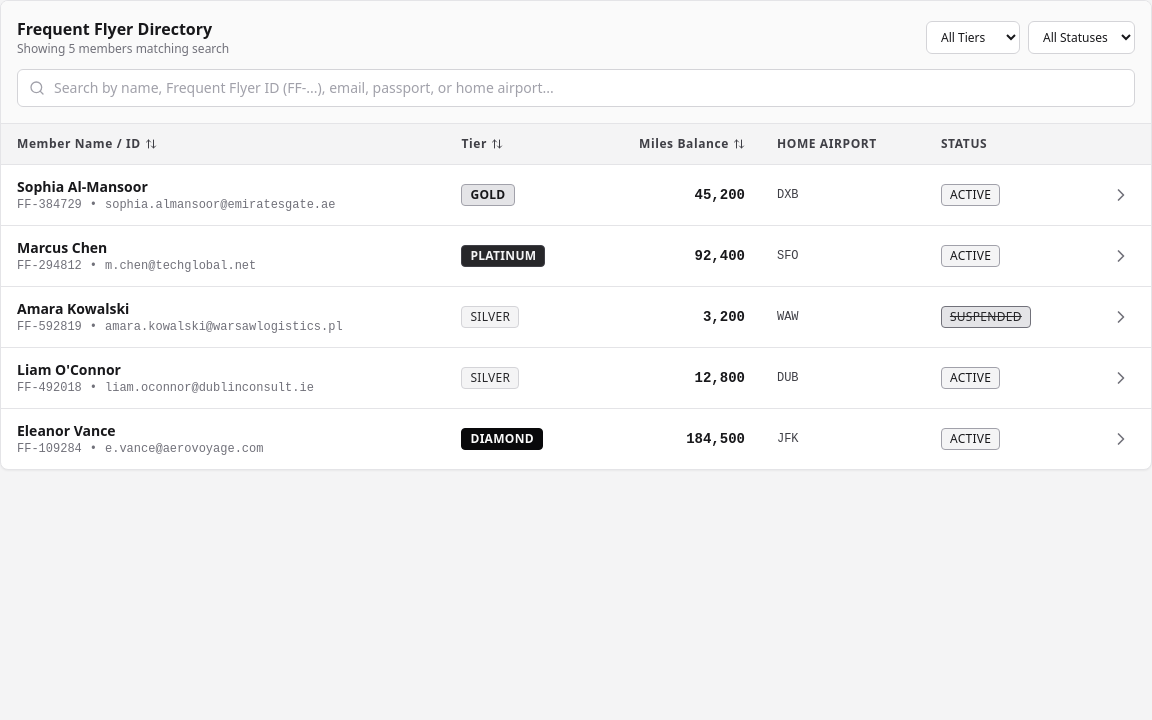
Scenario: MemberList Component (Agile User Stories & Edge Cases) › displays the user-friendly "No data found" empty state when search returns no results
Type "NonExistentPassengerXYZ" into the field named "search frequent flyer records by name, id, or email".
click(576, 88); type("NonExistentPassengerXYZ")  # box [17,69,1135,107]
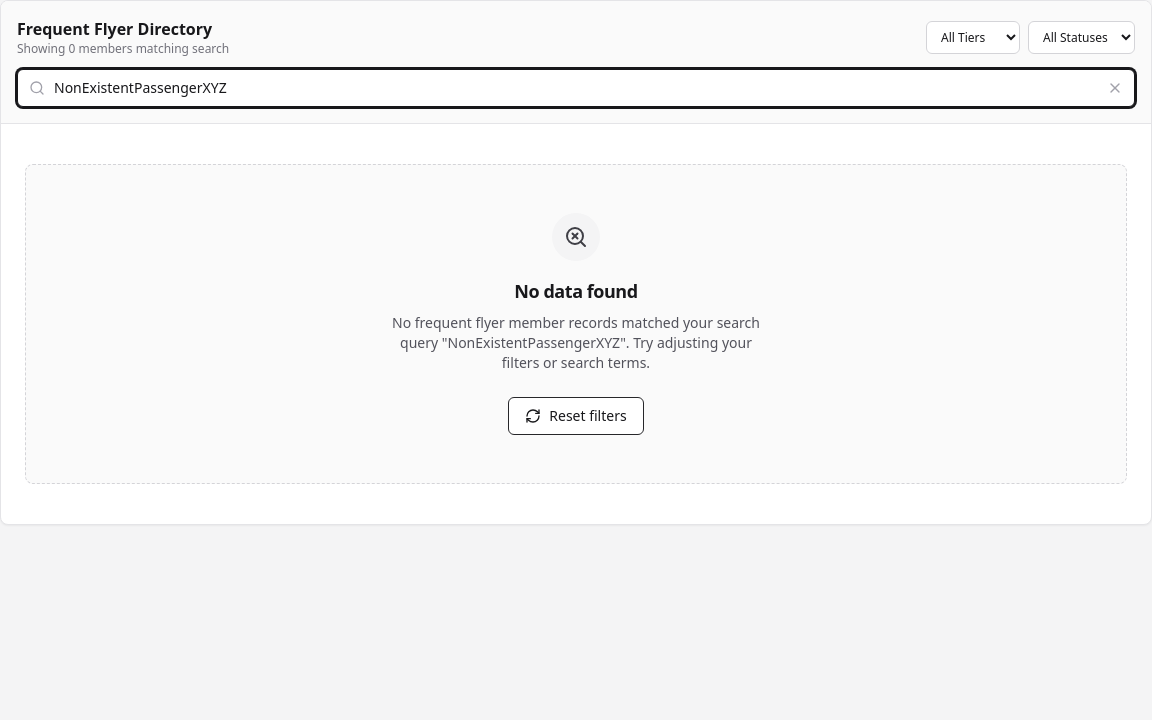
Check: the heading "No data found" is shown, box [514,277,638,305]
Check: the text "No frequent flyer member records matched your search query" is shown, box [392,313,760,372]
Note: Clicking reset button clears search
Click the button with aria-label "reset search filters".
click(576, 416)  # box [508,397,644,435]
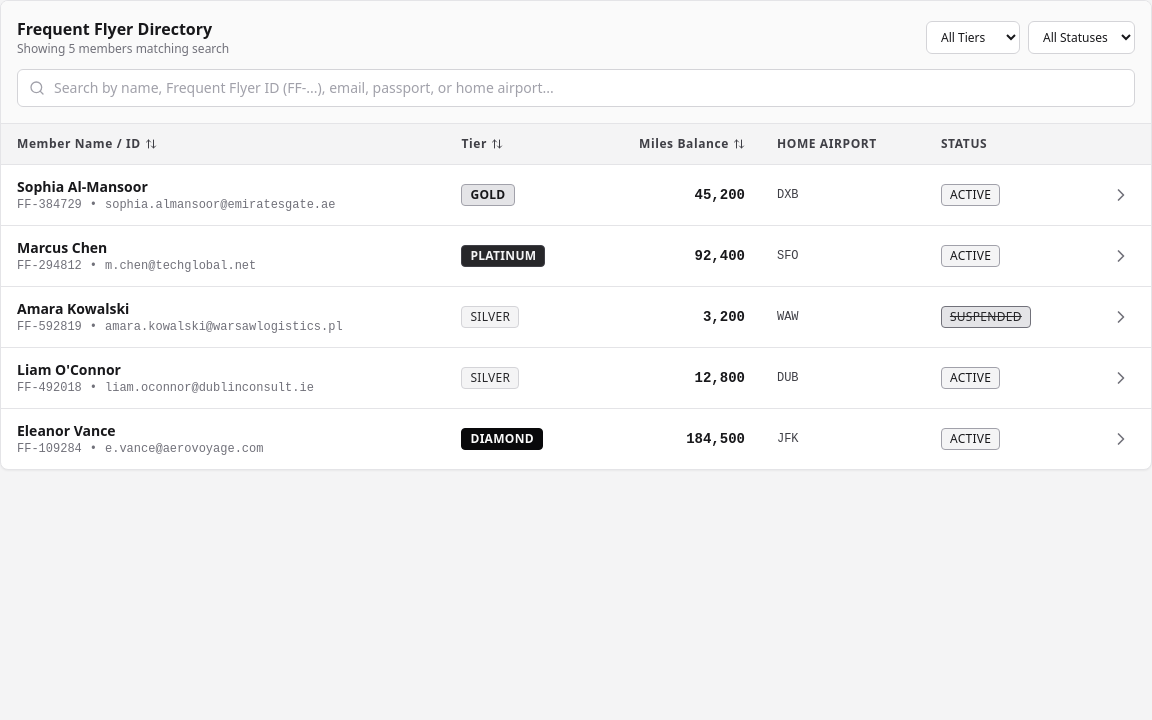
Check: the text "Eleanor Vance" is shown, box [17,421,116,440]
